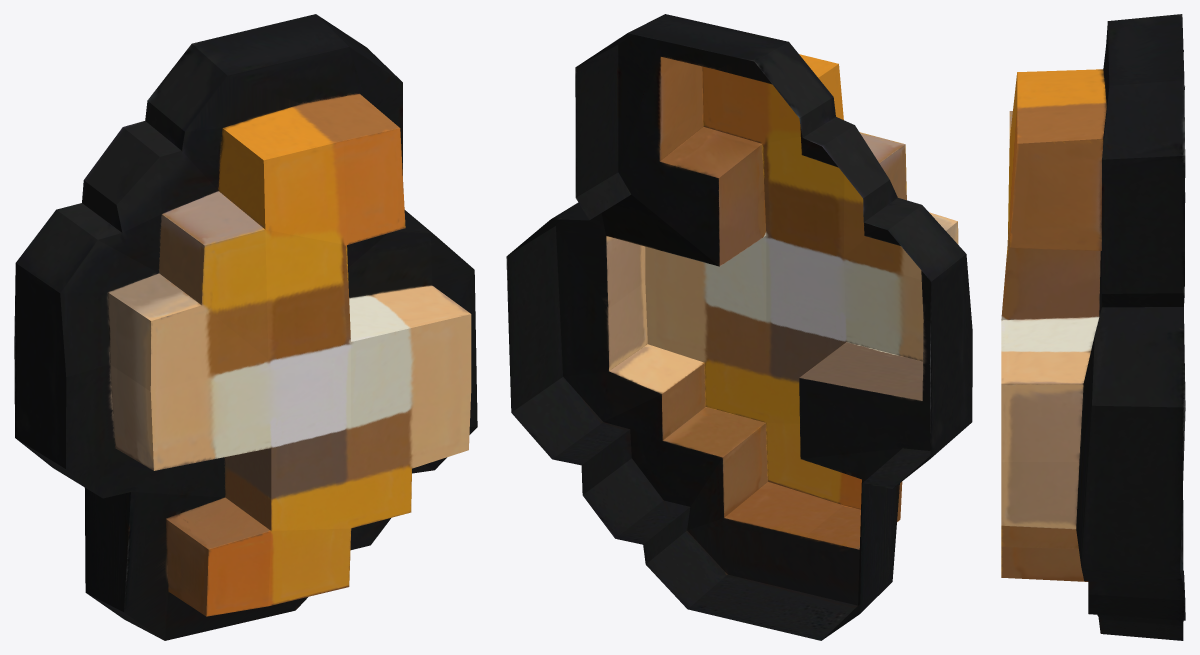
Rendered from lightning.fbx.
3 views of the same model, side by side, from view 1: azimuth 30°, elevation 25°; view 2: azimuth 150°, elevation 25°; view 3: azimuth 270°, elevation 25° (orthographic). The views are drawn at different scales.
Visible parts, largest first — view 1: Молния; view 2: Молния; view 3: Молния.
Part boxes in pixels (x1,y1,x2,y2): Молния: (14,14,477,640); Молния: (506,14,972,640); Молния: (1001,14,1185,640).
Bounding box in the file's own units: 17.49 × 22.26 × 6.27.
Materials: 1 (1 with a texture image).
